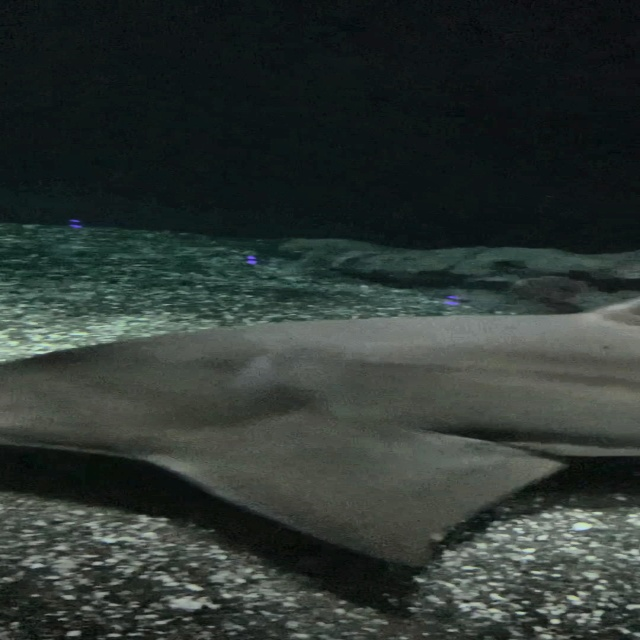shark: (0, 293, 639, 578)
